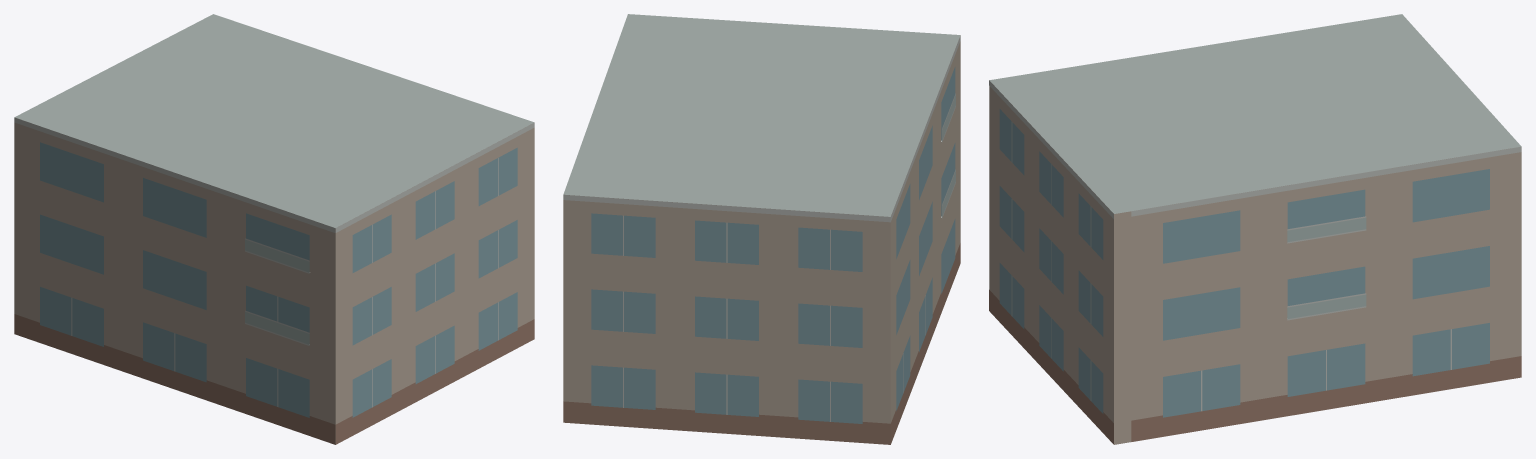
File: survey-upis-32968625.glb
3 views of the same model, side by side, from view 1: azimuth 30°, elevation 25°; view 2: azimuth 150°, elevation 25°; view 3: azimuth 270°, elevation 25° (orthographic). The views are drawn at different scales.
Visible parts, largest first — view 1: survey-upis-32968625.tmp; view 2: survey-upis-32968625.tmp; view 3: survey-upis-32968625.tmp.
Part boxes in pixels (bbox=[...]): survey-upis-32968625.tmp: bbox=[14, 14, 534, 444]; survey-upis-32968625.tmp: bbox=[563, 14, 960, 444]; survey-upis-32968625.tmp: bbox=[989, 14, 1521, 444].
Size of the model in its own units: 19.34 by 10.4 by 21.75.
